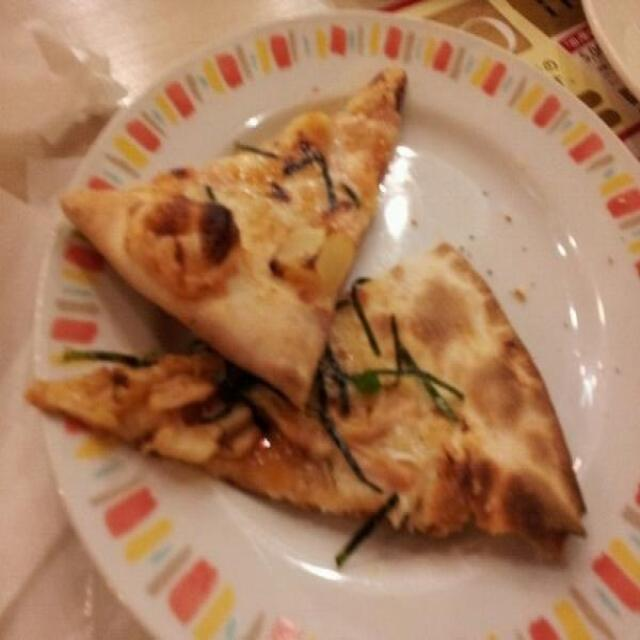Pizza: (49, 58, 508, 536)
